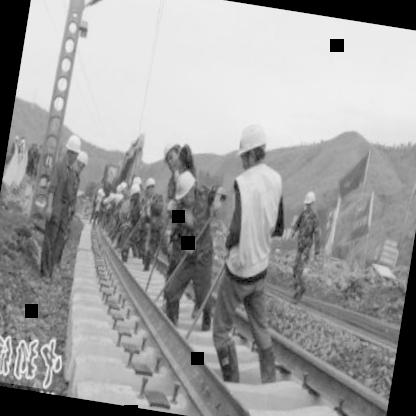helmet: (230, 112, 274, 180), (170, 170, 198, 210), (158, 138, 182, 175), (62, 130, 83, 166), (299, 187, 317, 215), (72, 148, 90, 175), (128, 182, 142, 204), (144, 174, 156, 197)
